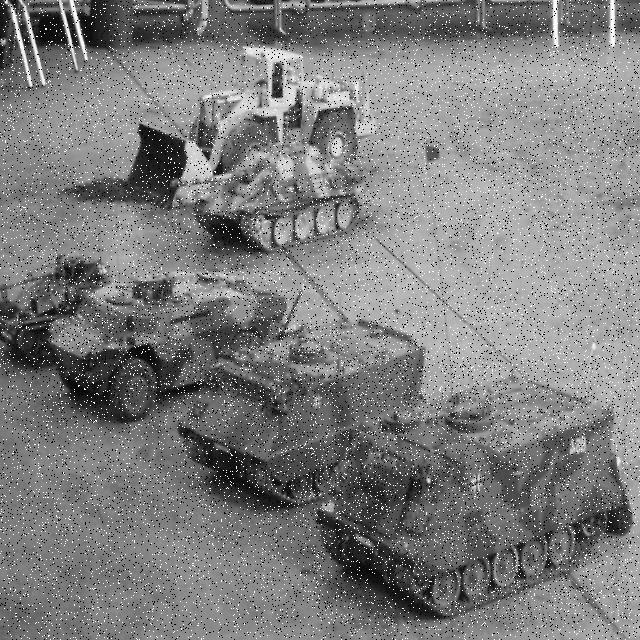MIL_MBT: (312, 357, 637, 619), (178, 316, 427, 510), (45, 271, 287, 422), (166, 137, 373, 259)
